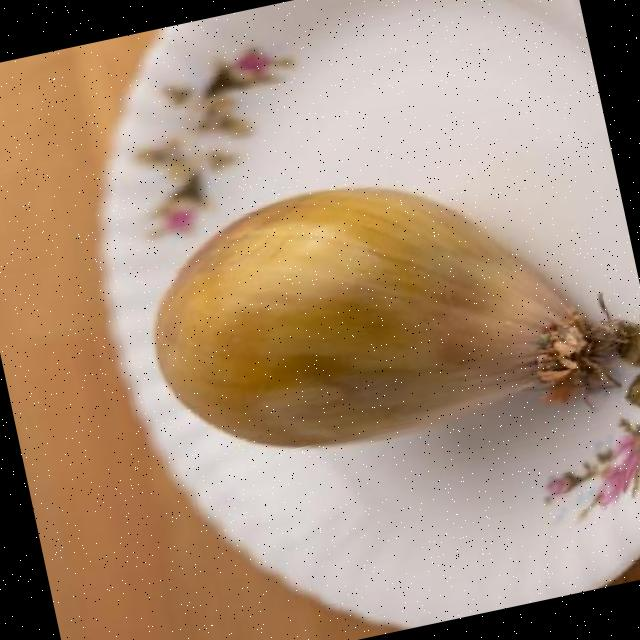Onion: (153, 186, 640, 446)
